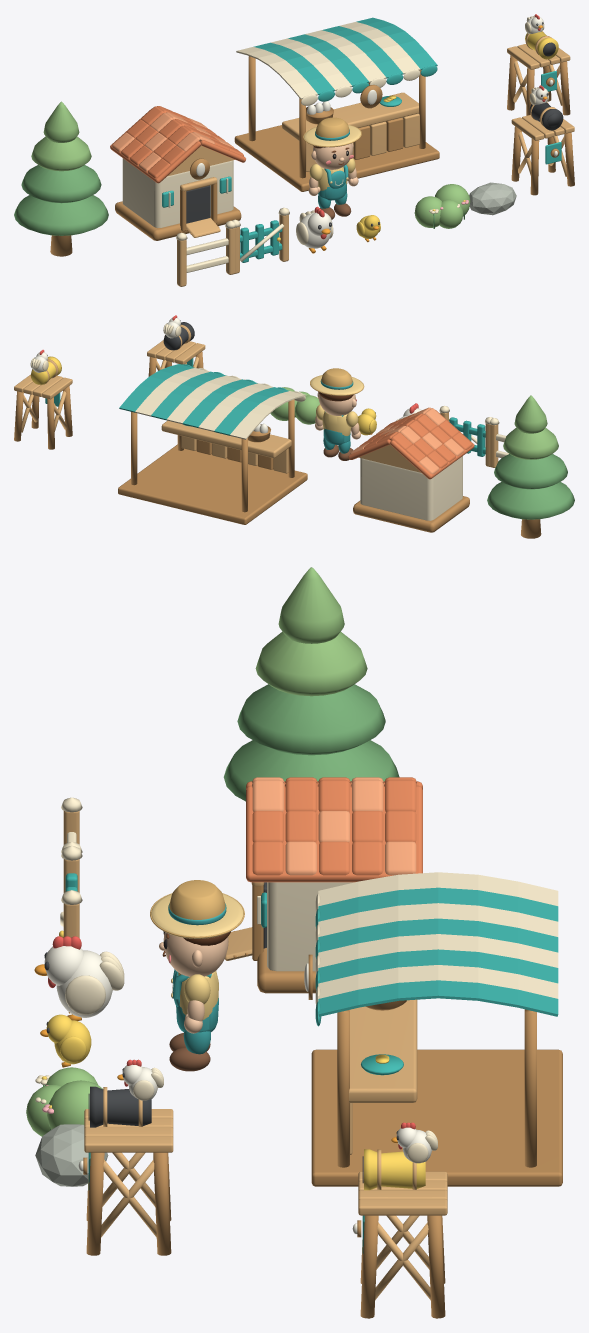
Rendered from environment-pack.glb.
3 renders of one model, top to bottom at view 1: azimuth 30°, elevation 25°; view 2: azimuth 150°, elevation 25°; view 3: azimuth 270°, elevation 25°, orthographic. The views are drawn at different scales.
Visible parts, largest first — view 1: Market footboard, Coop warm walls, Soft pine crown, Soft pine crown.001, Sales counter, Soft pine crown.002, Rounded garden stone, Curved canvas stripe, Coop rounded foundation, Curved canvas stripe.001, Curved canvas stripe.006, Curved canvas stripe.007 (+37 smaller); view 2: Market footboard, Coop warm walls, Soft pine crown, Soft pine crown.001, Sales counter, Coop rounded foundation, Soft pine crown.002, Curved canvas stripe, Curved canvas stripe.005, Curved canvas stripe.002, Curved canvas stripe.003, Curved canvas stripe.006 (+26 smaller); view 3: Market footboard, Soft pine crown.001, Sales counter, Soft pine crown.002, Soft pine crown, Coop warm walls, Curved canvas stripe.007, Curved canvas stripe.003, Curved canvas stripe, Curved canvas stripe.001, Curved canvas stripe.004, Curved canvas stripe.002 (+39 smaller).
Part boxes in pixels (x1,y1,x2,y2): Market footboard: [234, 125, 439, 191]; Coop warm walls: [122, 158, 233, 228]; Soft pine crown: [14, 195, 108, 235]; Soft pine crown.001: [21, 165, 101, 203]; Sales counter: [282, 92, 418, 140]; Soft pine crown.002: [31, 136, 91, 171]; Rounded garden stone: [469, 182, 516, 215]; Curved canvas stripe: [236, 47, 317, 99]; Coop rounded foundation: [115, 201, 241, 240]; Curved canvas stripe.001: [253, 42, 334, 95]; Curved canvas stripe.006: [339, 22, 420, 74]; Curved canvas stripe.007: [356, 17, 437, 70]; Market footboard: [118, 444, 307, 524]; Coop warm walls: [360, 456, 462, 520]; Soft pine crown: [487, 482, 574, 519]; Soft pine crown.001: [494, 454, 567, 489]; Sales counter: [161, 420, 291, 458]; Coop rounded foundation: [353, 496, 469, 532]; Soft pine crown.002: [503, 427, 558, 459]; Curved canvas stripe: [230, 391, 305, 439]; Curved canvas stripe.005: [151, 371, 226, 420]; Curved canvas stripe.002: [198, 383, 273, 431]; Curved canvas stripe.003: [182, 379, 257, 427]; Curved canvas stripe.006: [135, 368, 209, 416]; Market footboard: [311, 1049, 562, 1186]; Soft pine crown.001: [237, 684, 385, 755]; Sales counter: [349, 999, 417, 1102]; Soft pine crown.002: [255, 631, 367, 696]; Soft pine crown: [223, 740, 399, 801]; Coop warm walls: [267, 882, 353, 971]; Curved canvas stripe.007: [318, 980, 558, 1016]; Curved canvas stripe.003: [318, 918, 558, 952]; Curved canvas stripe: [318, 872, 558, 906]; Curved canvas stripe.001: [318, 887, 558, 921]; Curved canvas stripe.004: [318, 934, 558, 967]; Curved canvas stripe.002: [318, 903, 558, 936].
Bounding box in the file's own units: 10.58 × 2.73 × 4.7.
